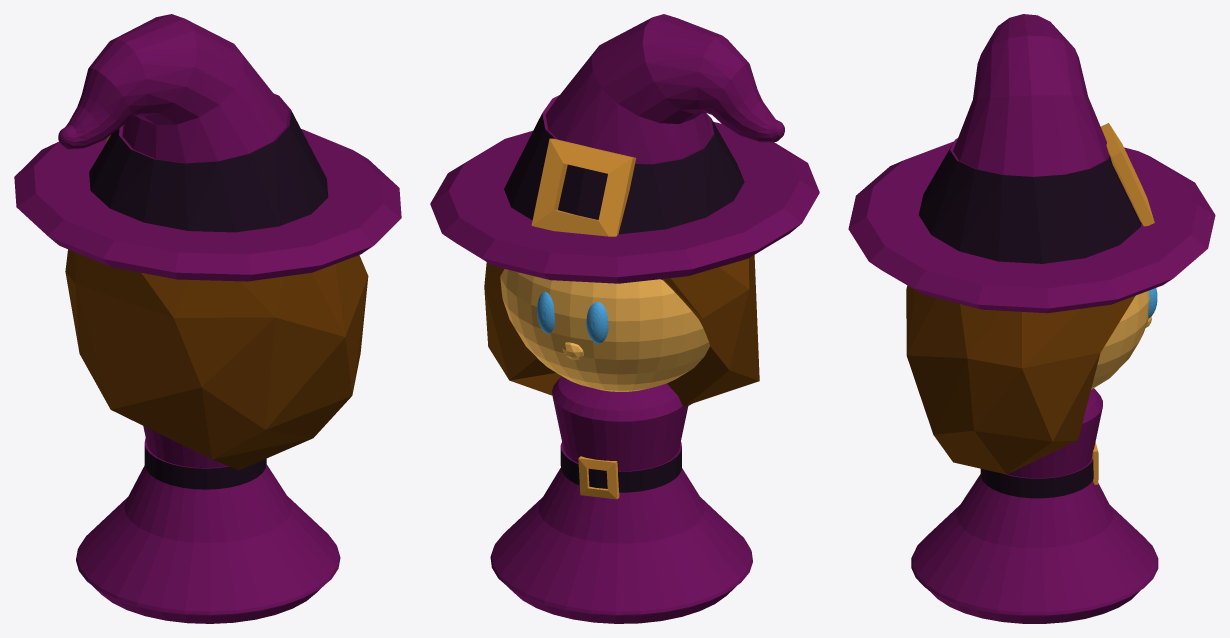
The model's file is witch.dae.
The picture shows the model from 3 angles, left to right: view 1: azimuth 30°, elevation 25°; view 2: azimuth 150°, elevation 25°; view 3: azimuth 270°, elevation 25°; orthographic projection. The views are drawn at different scales.
Visible parts, largest first — view 1: Hat, Hair, Dress; view 2: Hat, Dress, Head, Hair, Buckle, Sphere, BeltBuckle; view 3: Hat, Dress, Hair, Head, Buckle.
Boxes of the visible parts, x1,y1,x2,y2 form: Hat: (14, 14, 401, 281); Hair: (65, 249, 368, 470); Dress: (76, 426, 340, 623); Hat: (430, 14, 819, 283); Dress: (490, 376, 752, 623); Head: (500, 269, 709, 391); Hair: (484, 255, 759, 406); Buckle: (531, 138, 636, 236); Sphere: (537, 291, 608, 343); BeltBuckle: (578, 456, 619, 499); Hat: (848, 14, 1215, 313); Dress: (911, 388, 1158, 623); Hair: (906, 285, 1135, 474); Head: (1091, 290, 1149, 389); Buckle: (1101, 123, 1154, 226).
Size of the model in its own units: 1.15 by 1.15 by 1.83.
